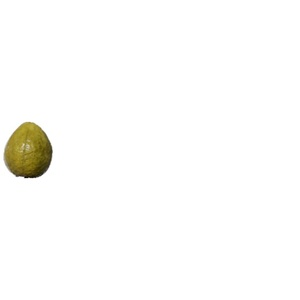goiaba: (2, 118, 55, 179)
